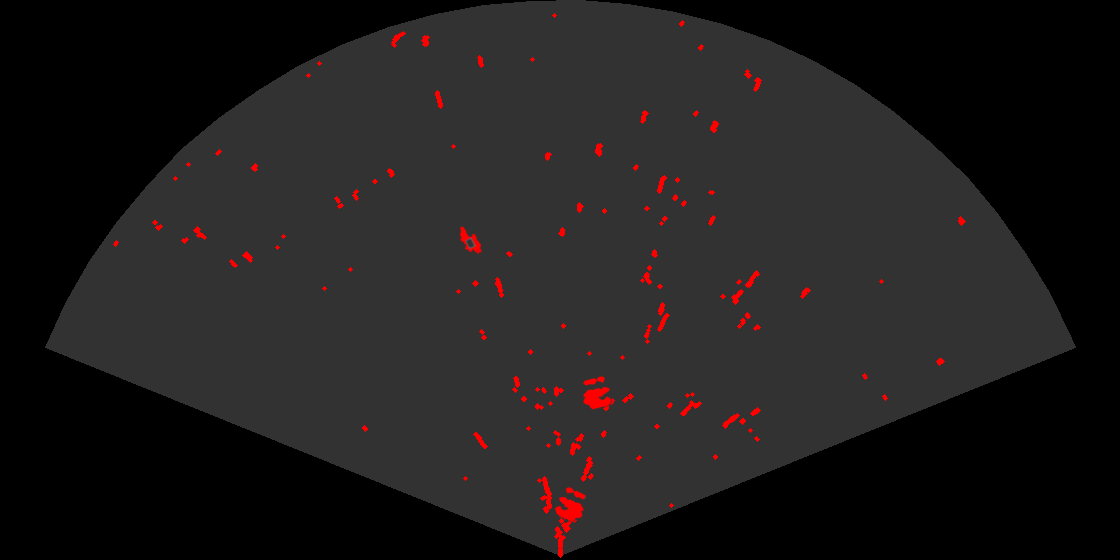AUV: (458, 225, 483, 256)
ball: (553, 486, 587, 523), (581, 375, 613, 411)
